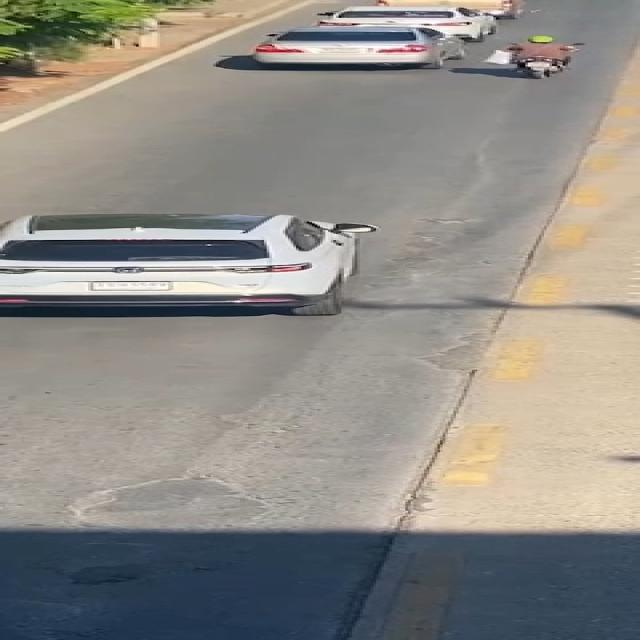car: (0, 203, 403, 334), (251, 25, 484, 74), (297, 4, 511, 42)
